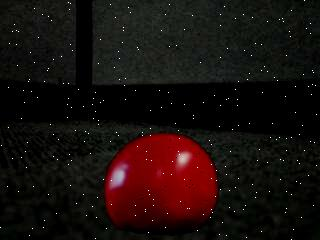Tomato: (102, 132, 223, 238)
